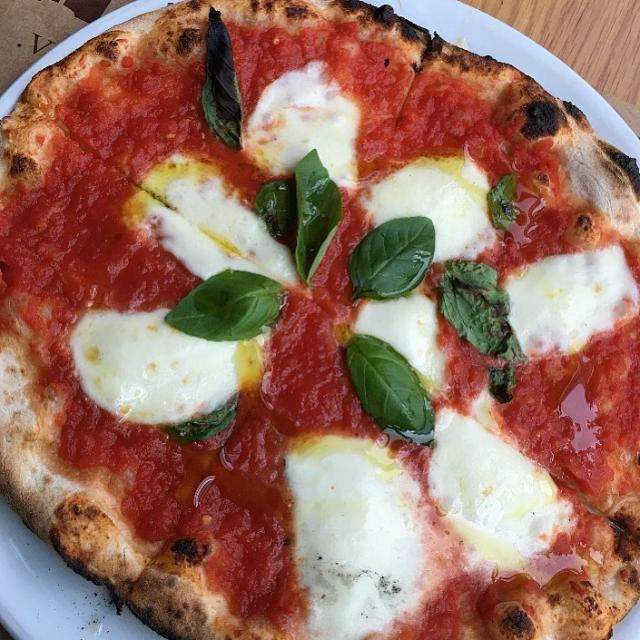basil: (342, 335, 438, 448), (439, 262, 526, 381), (161, 271, 287, 344), (348, 217, 436, 303), (200, 7, 246, 152), (294, 152, 343, 285), (156, 392, 242, 446), (254, 169, 300, 257), (486, 174, 521, 233)
pizza: (0, 0, 640, 640)
